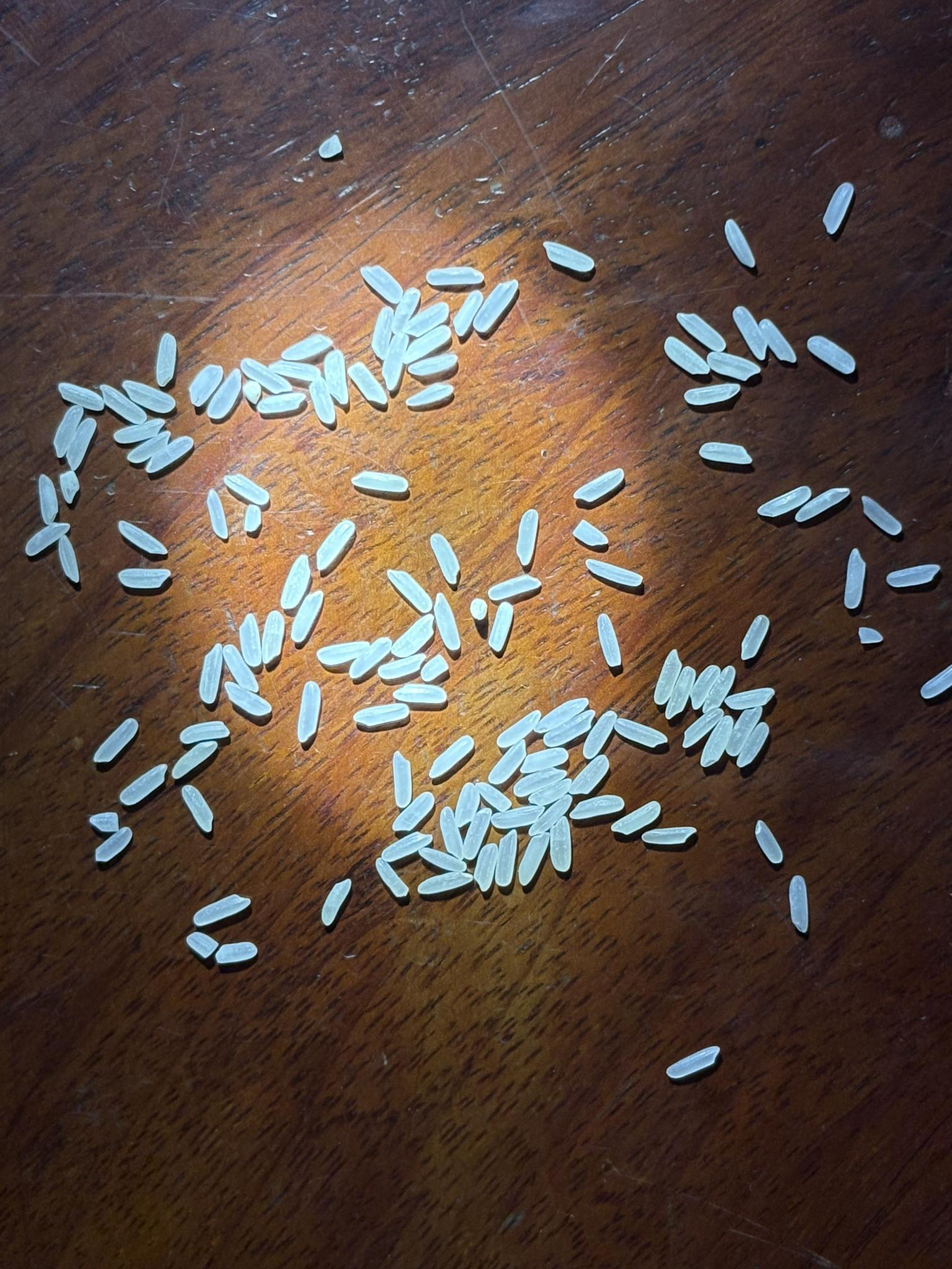Rice-th-y-nh: (473, 279, 519, 334), (386, 568, 434, 615), (91, 718, 140, 764), (118, 763, 169, 807), (314, 519, 356, 572), (543, 708, 597, 748), (427, 734, 475, 779), (794, 486, 850, 523), (724, 704, 763, 757), (240, 357, 293, 395), (99, 384, 148, 425), (677, 312, 727, 352), (289, 587, 324, 644), (206, 368, 243, 421), (807, 336, 857, 375), (122, 379, 176, 415), (391, 614, 435, 658), (146, 435, 195, 474), (732, 306, 768, 359), (757, 485, 813, 519), (348, 637, 393, 679), (347, 361, 389, 406), (537, 697, 589, 733), (403, 326, 452, 364), (487, 740, 528, 785), (496, 709, 542, 749), (171, 740, 218, 779), (192, 895, 251, 926), (432, 593, 463, 652), (280, 555, 312, 612), (699, 715, 734, 767), (681, 707, 725, 748), (222, 643, 258, 693), (574, 468, 625, 503), (117, 520, 168, 555), (352, 467, 409, 498), (860, 495, 903, 536), (360, 264, 405, 303), (403, 301, 450, 338), (586, 557, 642, 588), (200, 489, 234, 540), (582, 710, 618, 758), (530, 795, 572, 836), (392, 792, 435, 832), (65, 418, 98, 470), (664, 337, 709, 375), (614, 717, 667, 749), (24, 520, 71, 556), (569, 754, 610, 795), (702, 666, 737, 714), (224, 683, 272, 718), (760, 318, 797, 363), (52, 404, 84, 456), (653, 649, 683, 704), (295, 682, 322, 743), (198, 643, 225, 704), (614, 801, 661, 836), (180, 784, 214, 832), (544, 241, 595, 273), (666, 1048, 720, 1078), (664, 667, 695, 719), (430, 533, 461, 585), (223, 472, 270, 506), (487, 573, 540, 603), (707, 351, 760, 381), (188, 363, 224, 407), (518, 834, 549, 885), (823, 182, 854, 233), (126, 429, 171, 464), (513, 768, 567, 797), (316, 638, 370, 667), (736, 722, 770, 768), (281, 332, 333, 362), (723, 220, 756, 267), (322, 349, 351, 402), (381, 832, 432, 862), (461, 809, 491, 860), (842, 549, 867, 610), (390, 287, 421, 336), (381, 334, 408, 390), (236, 613, 264, 667), (320, 879, 352, 925), (307, 376, 337, 425), (259, 611, 286, 665), (94, 826, 133, 863), (739, 615, 771, 660), (452, 290, 483, 336), (58, 381, 104, 412), (438, 805, 464, 859), (596, 614, 622, 668), (887, 563, 941, 589), (515, 509, 540, 565), (753, 819, 784, 864), (700, 440, 753, 466), (487, 601, 514, 652), (689, 665, 721, 708), (406, 380, 455, 408), (377, 653, 426, 681), (549, 816, 573, 873), (375, 858, 409, 898), (570, 794, 624, 819), (683, 382, 739, 406), (354, 703, 409, 727), (113, 420, 165, 445), (408, 352, 458, 378), (270, 358, 320, 384), (256, 390, 306, 416), (417, 871, 470, 895), (118, 566, 171, 590), (474, 780, 512, 813), (788, 875, 810, 932), (180, 720, 230, 745), (521, 747, 569, 773), (727, 686, 775, 712), (530, 778, 573, 807), (394, 682, 448, 705), (496, 831, 518, 887), (391, 752, 413, 808), (420, 847, 466, 873), (425, 266, 484, 286), (36, 475, 60, 524), (492, 805, 541, 829), (155, 333, 177, 386), (56, 535, 80, 583), (474, 843, 498, 890), (372, 307, 394, 358), (920, 664, 952, 699), (454, 782, 479, 826), (641, 826, 696, 845), (572, 520, 609, 547), (215, 942, 257, 963), (420, 655, 449, 682), (240, 503, 265, 533), (187, 932, 218, 956), (90, 810, 120, 833), (60, 470, 80, 502), (319, 134, 342, 159), (242, 378, 263, 405), (468, 596, 488, 621), (857, 626, 884, 644)
